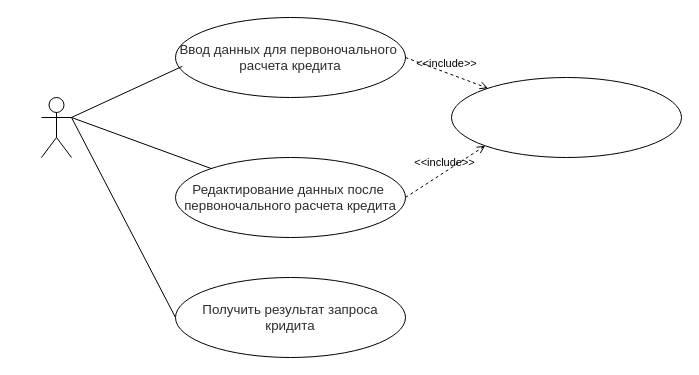
Image size: 699x375. Some labels were removed from this diagram. Here are the shapes that lost their labels. From the top down, the centre of each, then its label:
(56,127): Пользователь
(566,117): Проверка можно ли выдавать кридит
